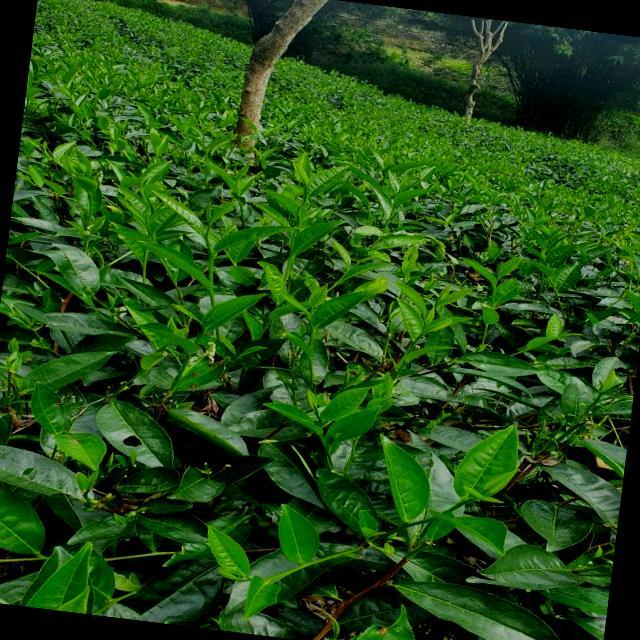Stem: (204, 234, 208, 239)
